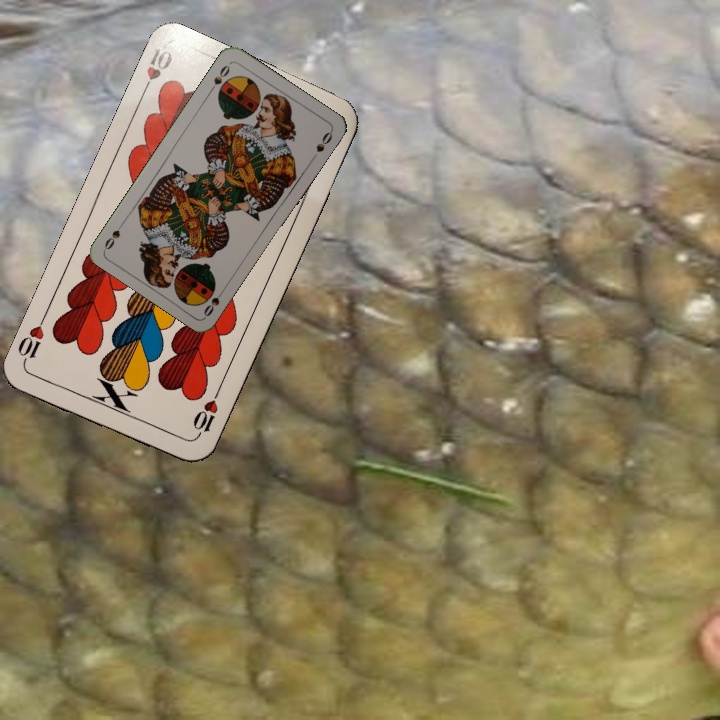H10: (137, 44, 179, 99), (188, 386, 223, 442)
SO: (199, 283, 228, 319), (205, 61, 233, 95)
